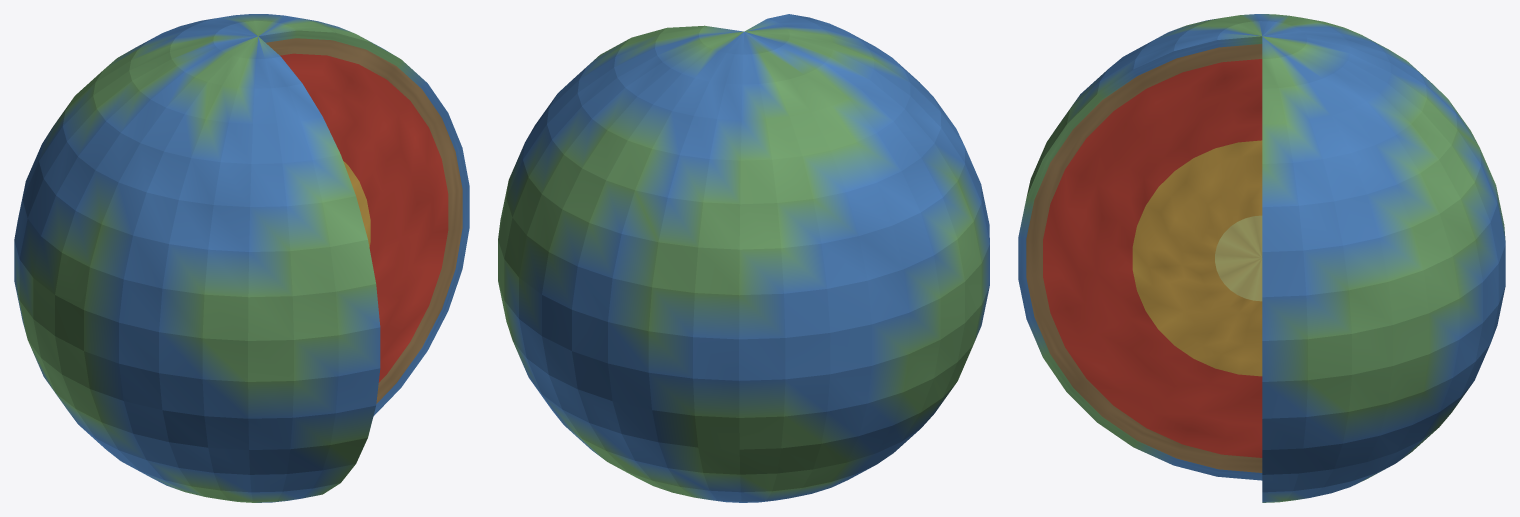
The model's file is earth_cutaway.glb.
3 renders of one model, left to right at view 1: azimuth 30°, elevation 25°; view 2: azimuth 150°, elevation 25°; view 3: azimuth 270°, elevation 25°, orthographic.
Size of the model in its own units: 2.06 by 2.07 by 2.06.
